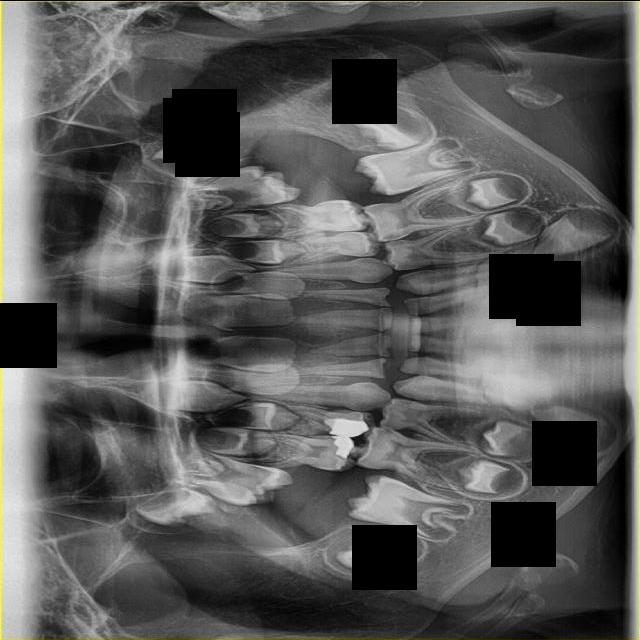NucleOSS Implant: (330, 416, 369, 440), (331, 430, 357, 460)
Sterngold Implant: (384, 238, 405, 247), (382, 232, 402, 241), (378, 426, 397, 435), (377, 287, 387, 303), (381, 421, 399, 429), (398, 398, 412, 405), (380, 307, 391, 313), (382, 344, 388, 353)
